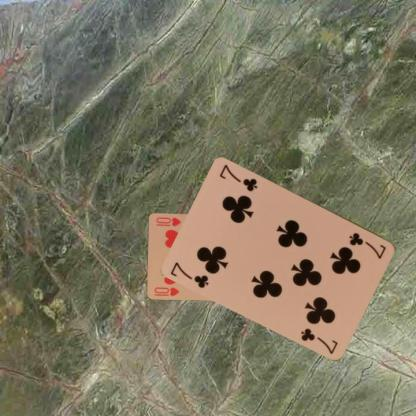10h: (152, 284, 180, 297)
7c: (346, 229, 388, 260), (168, 259, 210, 289)
